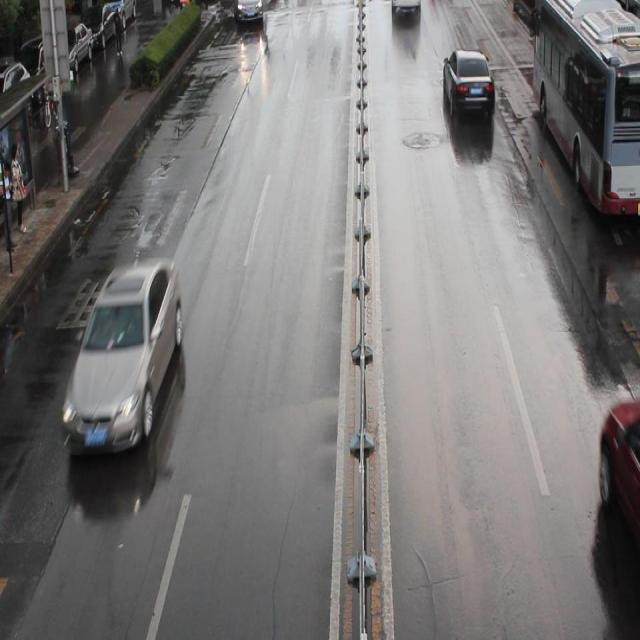car: (62, 256, 182, 457), (597, 393, 640, 562), (441, 47, 494, 114), (234, 1, 263, 23), (390, 2, 421, 15)
van: (530, 1, 640, 215)
